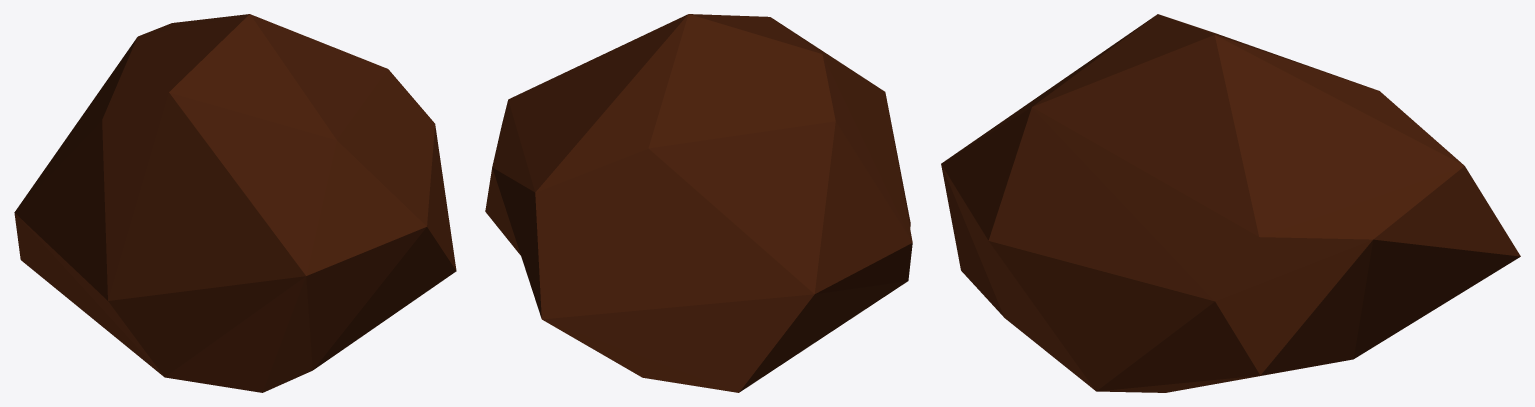
File: ENV_FL_Stone_Small_01.FBX
The picture shows the model from 3 angles, left to right: view 1: azimuth 30°, elevation 25°; view 2: azimuth 150°, elevation 25°; view 3: azimuth 270°, elevation 25°; orthographic projection. The views are drawn at different scales.
Visible parts, largest first — view 1: ENV_FL_Stone_Small_01; view 2: ENV_FL_Stone_Small_01; view 3: ENV_FL_Stone_Small_01.
Part boxes in pixels (box(x1,y1,x2,y2)): ENV_FL_Stone_Small_01: box(14, 14, 456, 392); ENV_FL_Stone_Small_01: box(485, 14, 912, 392); ENV_FL_Stone_Small_01: box(941, 14, 1520, 392).
Size of the model in its own units: 15.58 by 11.23 by 19.6.
